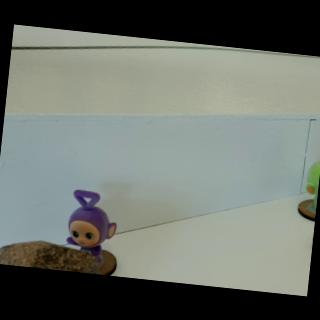teletubby: (66, 189, 116, 257), (305, 161, 320, 213)
